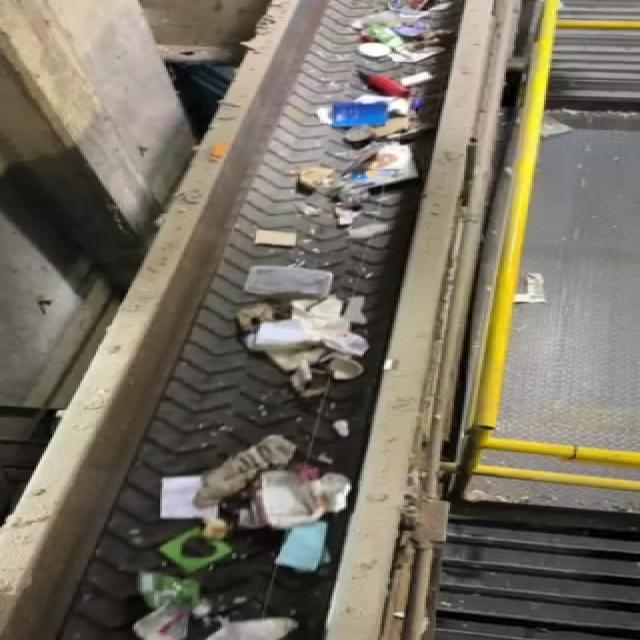pet: (190, 428, 300, 514)
